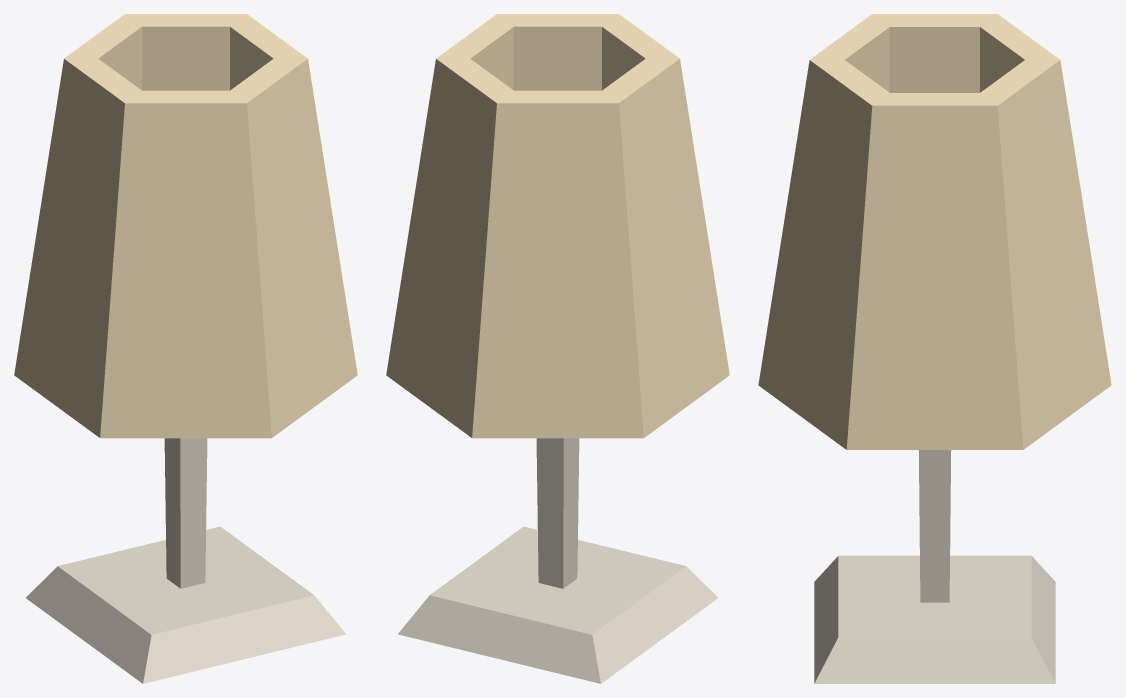
File: kitLampRoundTable.glb
3 renders of one model, left to right at view 1: azimuth 30°, elevation 25°; view 2: azimuth 150°, elevation 25°; view 3: azimuth 270°, elevation 25°, orthographic. The views are drawn at different scales.
Visible parts, largest first — view 1: kitLampRoundTable_glow, kitLampRoundTable_metal; view 2: kitLampRoundTable_glow, kitLampRoundTable_metal; view 3: kitLampRoundTable_glow, kitLampRoundTable_metal.
Part boxes in pixels (left/top/right/bottom): kitLampRoundTable_glow: left=14, top=14, right=357, bottom=438; kitLampRoundTable_metal: left=26, top=438, right=345, bottom=683; kitLampRoundTable_glow: left=386, top=14, right=729, bottom=438; kitLampRoundTable_metal: left=398, top=438, right=717, bottom=683; kitLampRoundTable_glow: left=758, top=14, right=1111, bottom=449; kitLampRoundTable_metal: left=814, top=450, right=1055, bottom=683.
Bounding box in the file's own units: 0.2903 × 0.6 × 0.3352.
